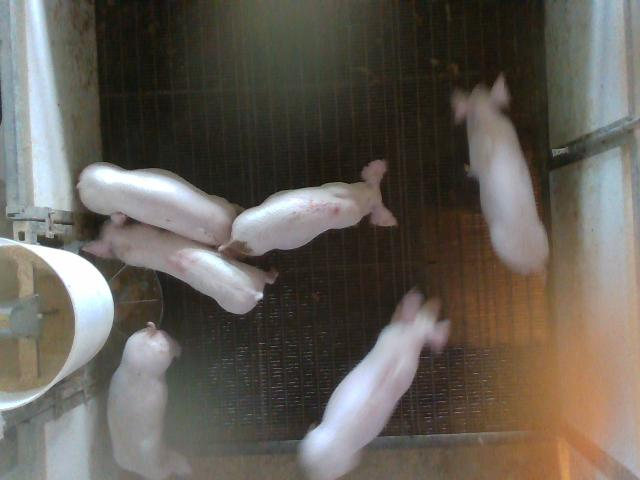pig-4: (84, 212, 278, 313)
pig-5: (219, 160, 396, 256)
